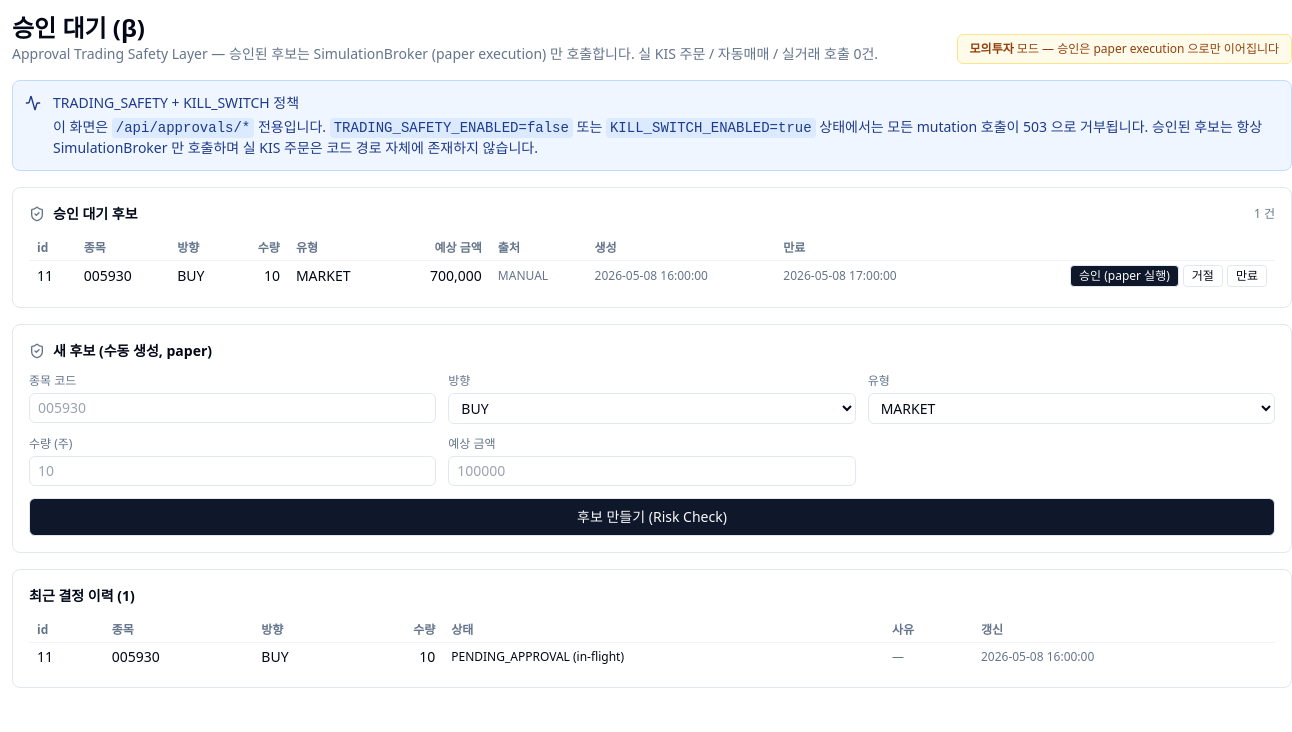
Test case: ApprovalsPage › approves a candidate and shows the success banner with virtual_order_id
Click the button with test id "approvals-approve-11". click: (1124, 276)
box: [1070, 265, 1179, 287]
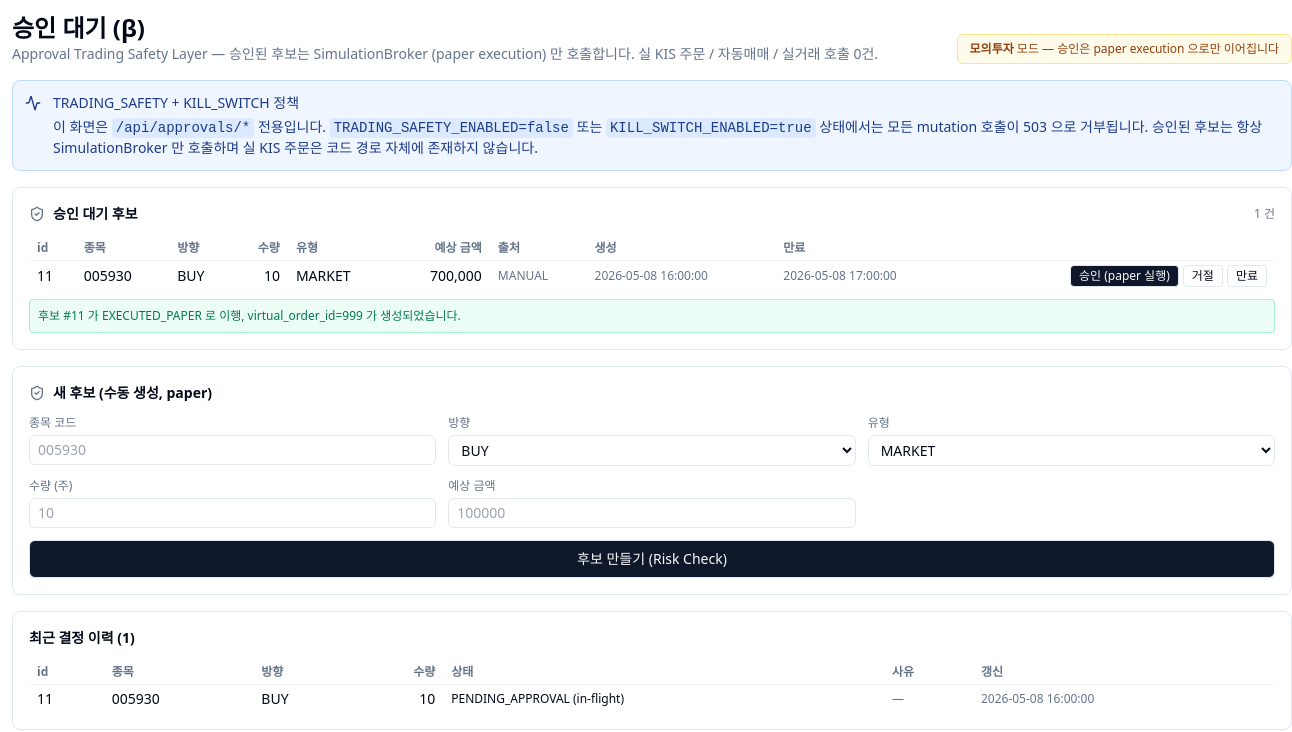
Check: the text with test id "approvals-approve-success" is shown, box [29, 299, 1275, 333]
Check: the text with test id "approvals-approve-success" shows "999", box [342, 307, 363, 324]
